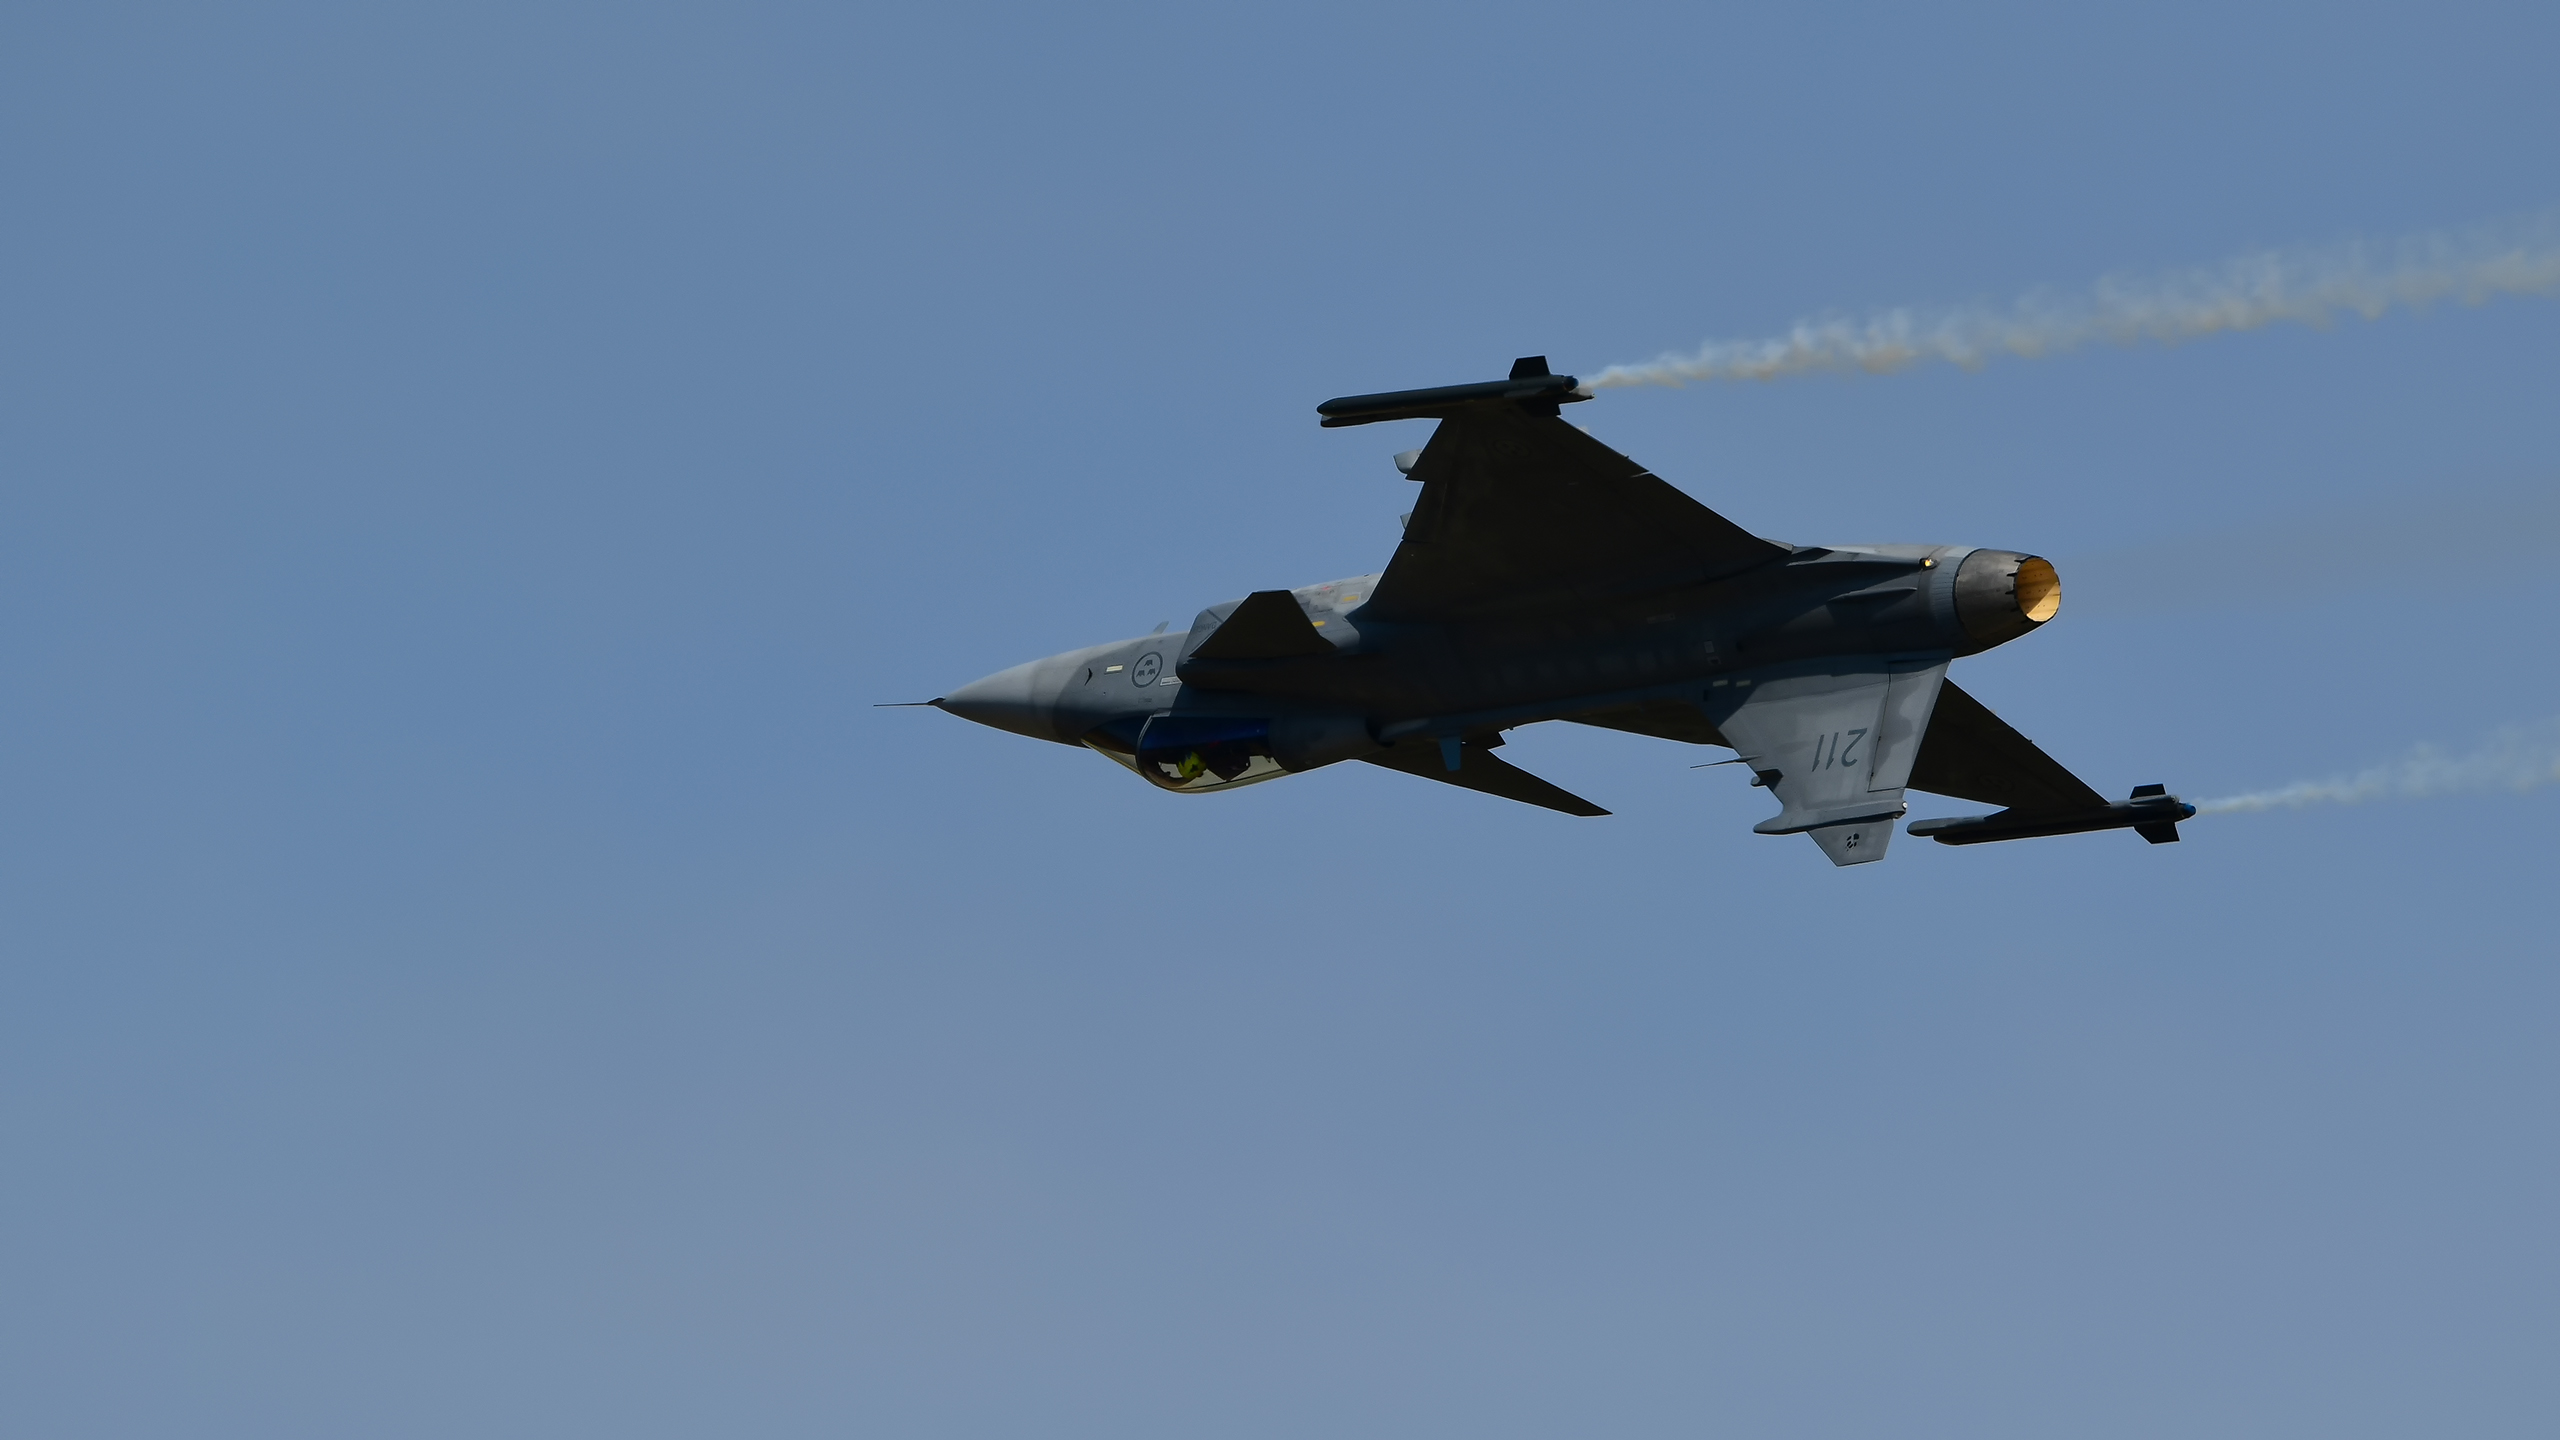JAS39: (872, 355, 2198, 869)
